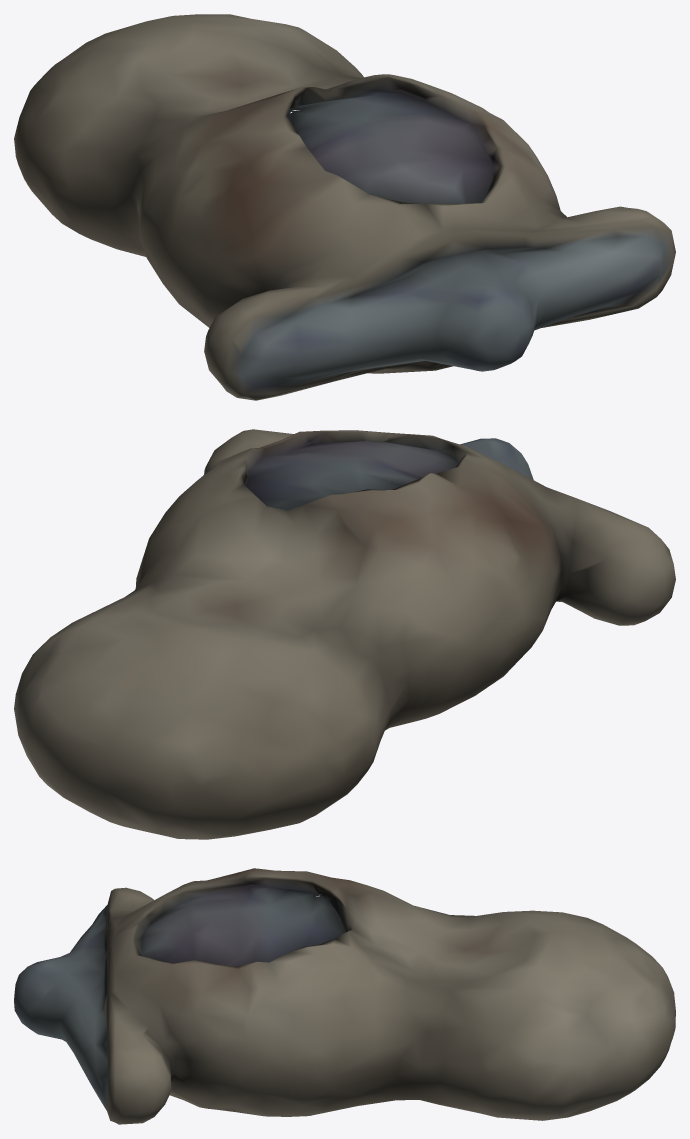
Rendered from bed_torso.glb.
The picture shows the model from 3 angles, top to bottom: view 1: azimuth 30°, elevation 25°; view 2: azimuth 150°, elevation 25°; view 3: azimuth 270°, elevation 25°; orthographic projection. The views are drawn at different scales.
Visible parts, largest first — view 1: bed_torso; view 2: bed_torso; view 3: bed_torso.
Boxes of the visible parts, x1=… form: bed_torso: x1=14, y1=14, x2=675, y2=400; bed_torso: x1=14, y1=429, x2=675, y2=839; bed_torso: x1=14, y1=868, x2=675, y2=1124.
Bounding box in the file's own units: 0.4598 × 0.2269 × 0.6894.
